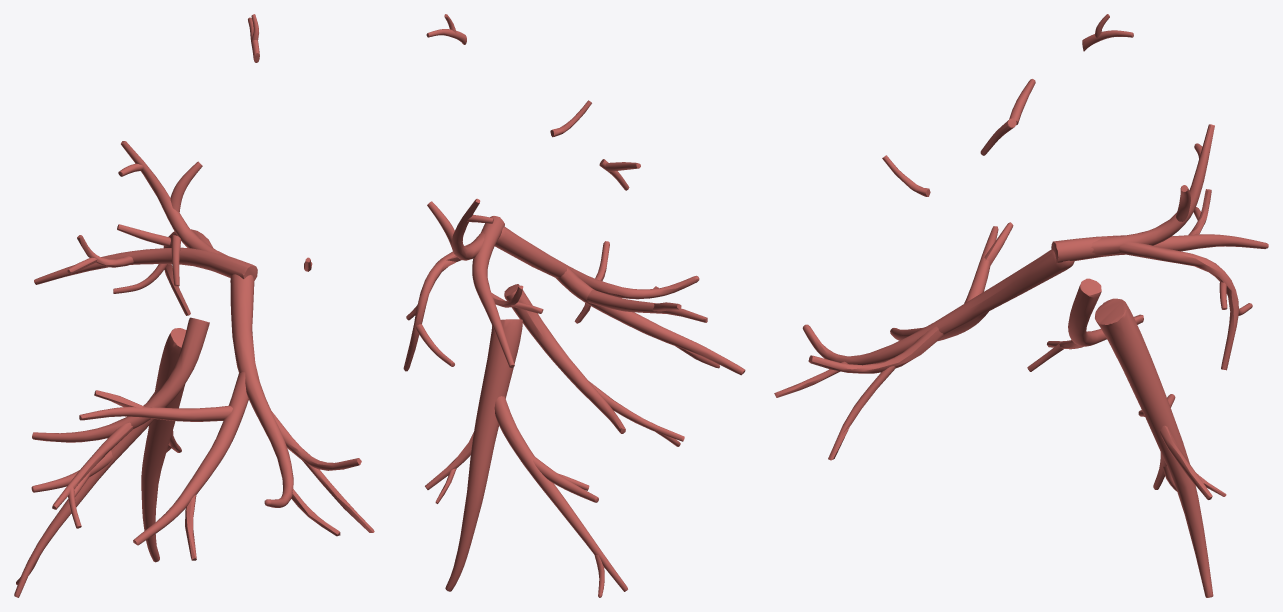
The model's file is thorax-12.glb.
The picture shows the model from 3 angles, left to right: view 1: azimuth 30°, elevation 25°; view 2: azimuth 150°, elevation 25°; view 3: azimuth 270°, elevation 25°; orthographic projection. The views are drawn at different scales.
Visible parts, largest first — view 1: FJ2990, FJ3008, FJ3001, FJ2982, FJ2991, FJ3005, FJ2983, FJ2997, FJ3002, FJ2988, FJ2987, FJ3006 (+5 smaller); view 2: FJ3008, FJ2990, FJ3005, FJ3001, FJ2982, FJ2991, FJ2983, FJ2994, FJ2997, FJ3002, FJ3006, FJ3009; view 3: FJ3008, FJ2990, FJ2991, FJ2997, FJ2994, FJ3001, FJ2988, FJ2987, FJ3009, FJ2983.
Boxes of the visible parts, x1,y1,x2,y2 form: FJ2990: (230, 274, 293, 507); FJ3008: (141, 328, 186, 562); FJ3001: (32, 317, 209, 442); FJ2982: (133, 372, 248, 545); FJ2991: (34, 247, 257, 284); FJ3005: (14, 392, 154, 597); FJ2983: (79, 405, 232, 421); FJ2997: (121, 141, 227, 255); FJ3002: (52, 422, 133, 509); FJ2988: (271, 410, 361, 470); FJ2987: (302, 460, 374, 532); FJ3006: (31, 450, 113, 492); FJ3008: (445, 319, 522, 591); FJ2990: (495, 227, 699, 299); FJ3005: (494, 396, 627, 591); FJ3001: (504, 284, 625, 433); FJ2982: (556, 267, 745, 375); FJ2991: (472, 216, 514, 368); FJ2983: (587, 289, 707, 322); FJ2994: (403, 243, 470, 371); FJ2997: (451, 198, 485, 260); FJ3002: (589, 381, 684, 441); FJ3006: (521, 456, 598, 502); FJ3009: (425, 432, 473, 489); FJ3008: (1095, 298, 1213, 597); FJ2990: (802, 249, 1074, 365); FJ2991: (1051, 234, 1268, 263); FJ2997: (1091, 124, 1214, 256); FJ2994: (1119, 242, 1238, 370); FJ3001: (1068, 278, 1143, 346); FJ2988: (808, 326, 944, 373); FJ2987: (828, 366, 895, 460); FJ3009: (1160, 425, 1212, 499); FJ2983: (964, 226, 998, 303).
Size of the model in its own units: 0.0897 by 0.2055 by 0.1508.
